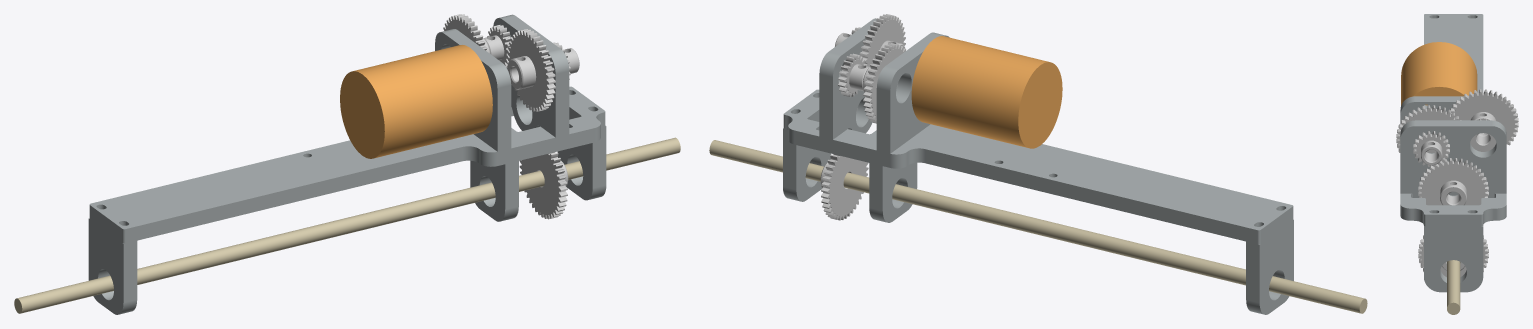
Rendered from rc-car-part.glb.
The picture shows the model from 3 angles, left to right: view 1: azimuth 30°, elevation 25°; view 2: azimuth 150°, elevation 25°; view 3: azimuth 270°, elevation 25°; orthographic projection. The views are drawn at different scales.
Parts seen in each view (by area): view 1: Body1.002, Body1.007, Body1.006, Body1.003, Body1, Body1.011, Body1.001, Body1.008, Body1.005, Body1.004, Body1.012, Body1.013; view 2: Body1.002, Body1.007, Body1.006, Body1.001, Body1, Body1.003, Body1.008, Body1.005, Body1.004, Body1.011, Body1.013, Body1.012; view 3: Body1.002, Body1, Body1.007, Body1.004, Body1.009, Body1.013, Body1.010, Body1.001, Body1.011, Body1.006, Body1.008, Body1.012.
Part boxes in pixels (x1,y1,x2,y2): Body1.002: [89, 86, 605, 243]; Body1.007: [340, 45, 492, 158]; Body1.006: [14, 137, 680, 313]; Body1.003: [88, 218, 137, 314]; Body1: [493, 14, 569, 137]; Body1.011: [507, 29, 555, 111]; Body1.001: [435, 29, 511, 151]; Body1.008: [519, 152, 568, 219]; Body1.005: [470, 160, 518, 221]; Body1.004: [557, 125, 606, 200]; Body1.012: [483, 25, 512, 67]; Body1.013: [443, 14, 490, 53]; Body1.002: [783, 89, 1293, 244]; Body1.007: [911, 36, 1062, 148]; Body1.006: [709, 140, 1367, 313]; Body1.001: [876, 32, 949, 153]; Body1: [819, 18, 876, 139]; Body1.003: [1246, 219, 1293, 314]; Body1.008: [820, 154, 868, 220]; Body1.005: [869, 162, 917, 222]; Body1.004: [783, 128, 830, 201]; Body1.011: [859, 14, 905, 66]; Body1.013: [862, 43, 905, 123]; Body1.012: [838, 53, 869, 97]; Body1.002: [1400, 14, 1506, 226]; Body1: [1400, 120, 1506, 196]; Body1.007: [1401, 42, 1477, 105]; Body1.004: [1424, 226, 1483, 292]; Body1.009: [1418, 158, 1488, 205]; Body1.013: [1450, 89, 1518, 145]; Body1.010: [1413, 131, 1449, 166]; Body1.001: [1400, 96, 1464, 124]; Body1.011: [1396, 105, 1461, 153]; Body1.006: [1447, 260, 1460, 314]; Body1.008: [1418, 235, 1488, 277]; Body1.012: [1470, 119, 1496, 151].
Bounding box in the file's own units: 0.3048 × 0.0883 × 0.0576.
